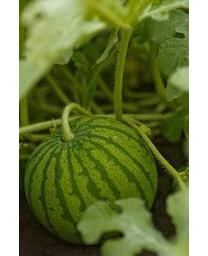watermelon: (23, 116, 159, 244)
